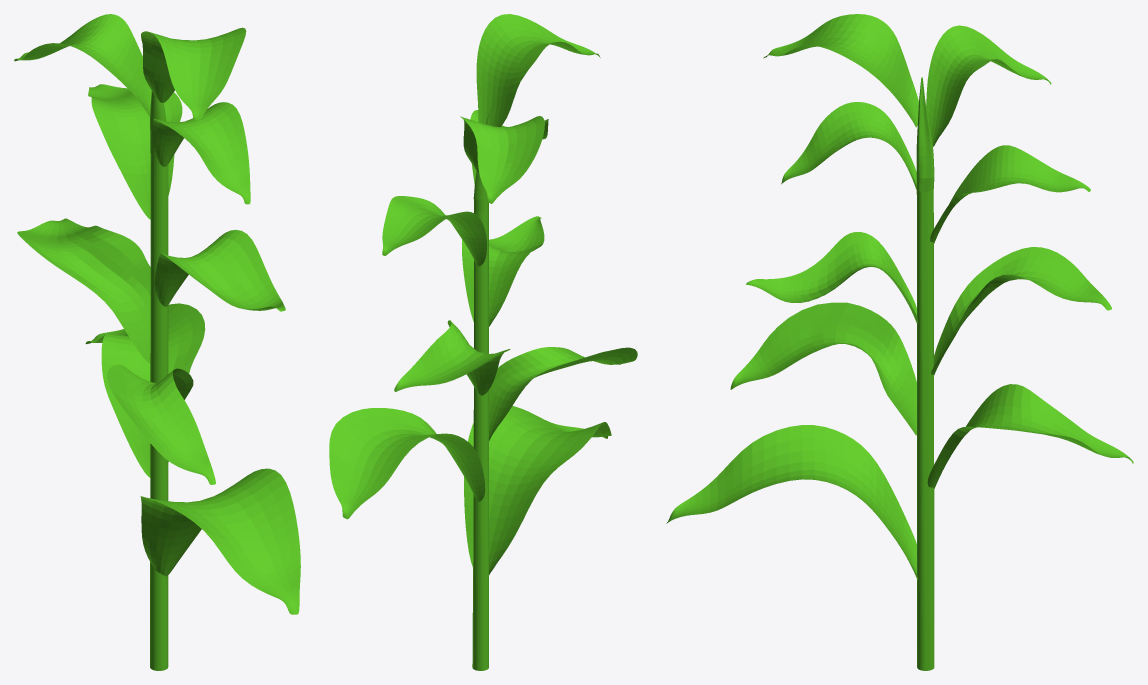
The model's file is corn2.fbx.
The picture shows the model from 3 angles, left to right: view 1: azimuth 30°, elevation 25°; view 2: azimuth 150°, elevation 25°; view 3: azimuth 270°, elevation 25°; orthographic projection. The views are drawn at different scales.
Visible parts, largest first — view 1: corn stage 2; view 2: corn stage 2; view 3: corn stage 2.
Boxes of the visible parts, x1,y1,x2,y2 form: corn stage 2: (14,14,300,670); corn stage 2: (329,14,637,670); corn stage 2: (666,14,1133,670).
Bounding box in the file's own units: 38.46 × 127 × 84.6.
